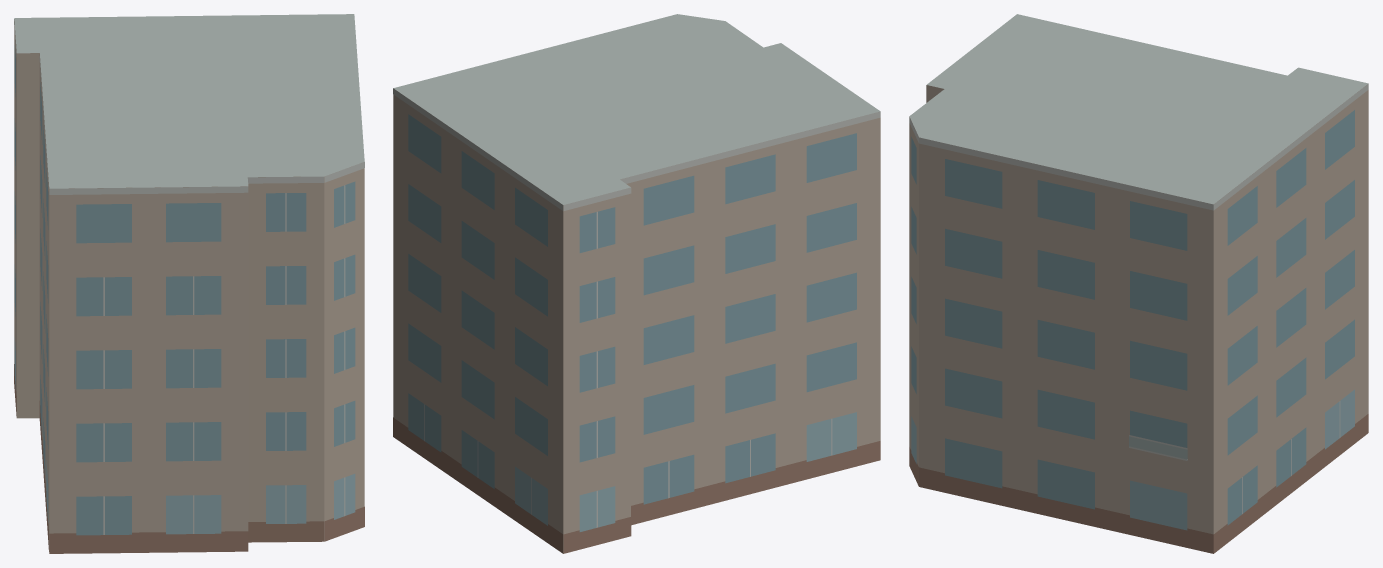
File: survey-upis-32526408.glb
3 views of the same model, side by side, from view 1: azimuth 30°, elevation 25°; view 2: azimuth 150°, elevation 25°; view 3: azimuth 270°, elevation 25° (orthographic). The views are drawn at different scales.
Parts seen in each view (by area): view 1: survey-upis-32526408.tmp; view 2: survey-upis-32526408.tmp; view 3: survey-upis-32526408.tmp.
Part boxes in pixels (bbox=[...]): survey-upis-32526408.tmp: bbox=[14, 14, 364, 553]; survey-upis-32526408.tmp: bbox=[393, 14, 880, 553]; survey-upis-32526408.tmp: bbox=[909, 14, 1368, 553].
Size of the model in its own units: 16.25 by 13.9 by 16.57.
